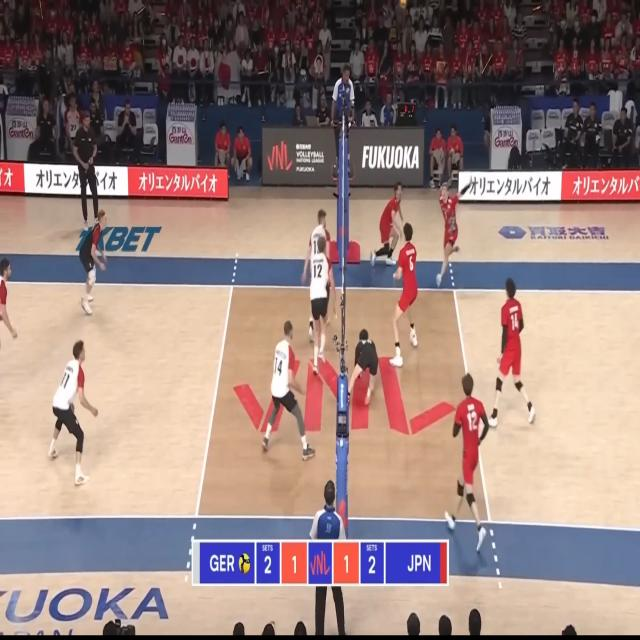ball: (399, 0, 406, 6)
